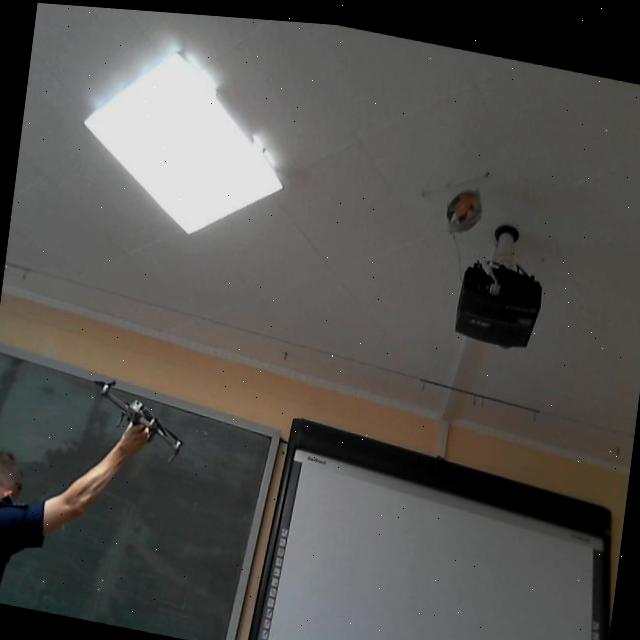drone: (76, 354, 204, 471)
